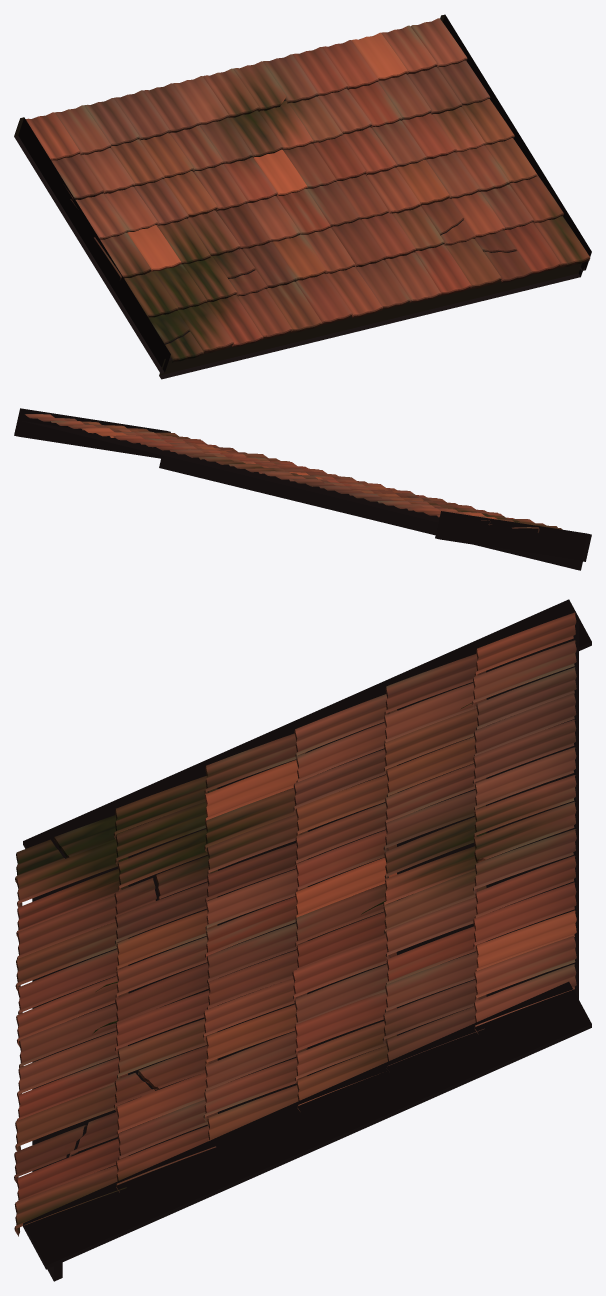
File: terracotta_panel.glb
3 views of the same model, one above another, from view 1: azimuth 30°, elevation 25°; view 2: azimuth 150°, elevation 25°; view 3: azimuth 270°, elevation 25° (orthographic). The views are drawn at different scales.
Visible parts, largest first — view 1: hb_terracotta; view 2: hb_terracotta; view 3: hb_terracotta.
Boxes of the visible parts, x1=… form: hb_terracotta: x1=14, y1=14, x2=591, y2=379; hb_terracotta: x1=14, y1=408, x2=591, y2=570; hb_terracotta: x1=14, y1=599, x2=591, y2=1281.
Size of the model in its own units: 3.06 by 1.11 by 1.94.
